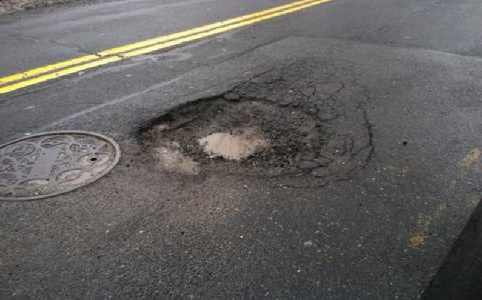pothole: (137, 90, 331, 177)
